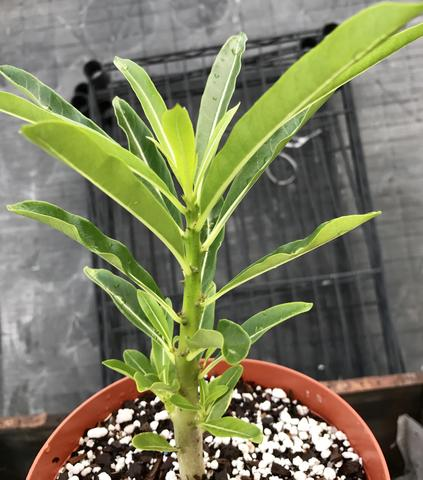Pachypodium meridionale: (88, 81, 292, 474)
